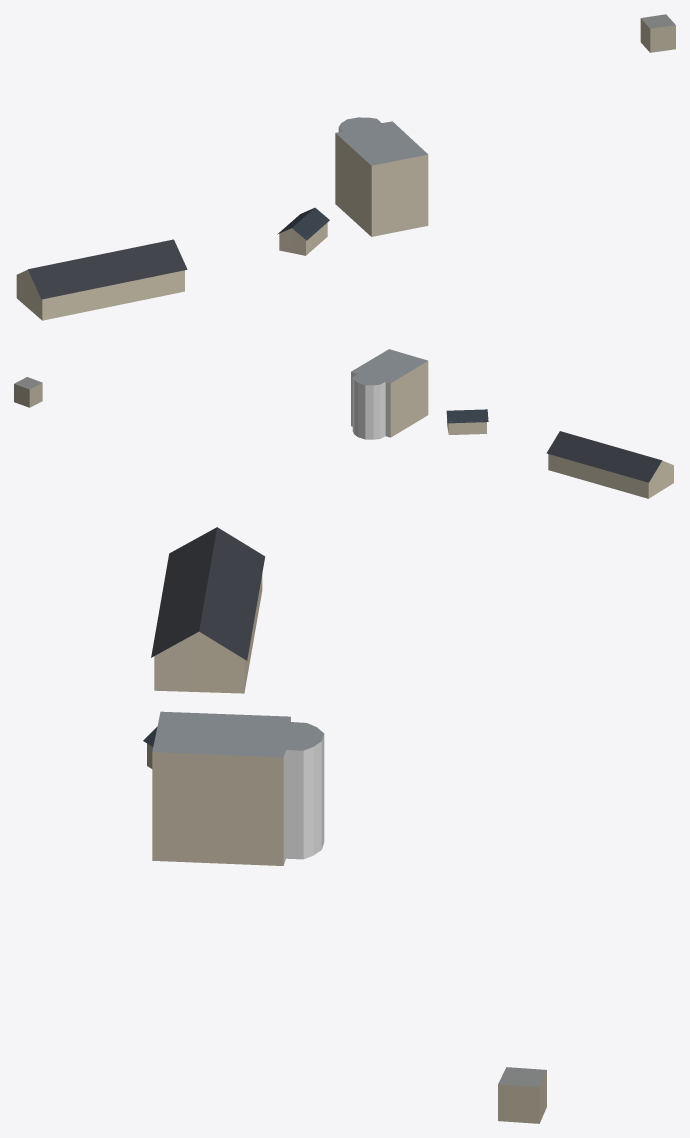
3 renders of one model, top to bottom at view 1: azimuth 30°, elevation 25°; view 2: azimuth 150°, elevation 25°; view 3: azimuth 270°, elevation 25°, orthographic. The views are drawn at different scales.
Parts seen in each view (by area): view 1: tuile; view 2: tuile; view 3: tuile.
Boxes of the visible parts, bbox=[...] form: tuile: bbox=[16, 14, 675, 320]; tuile: bbox=[14, 349, 673, 498]; tuile: bbox=[143, 527, 546, 1123].
Size of the model in its own units: 158 by 15.85 by 48.63.
